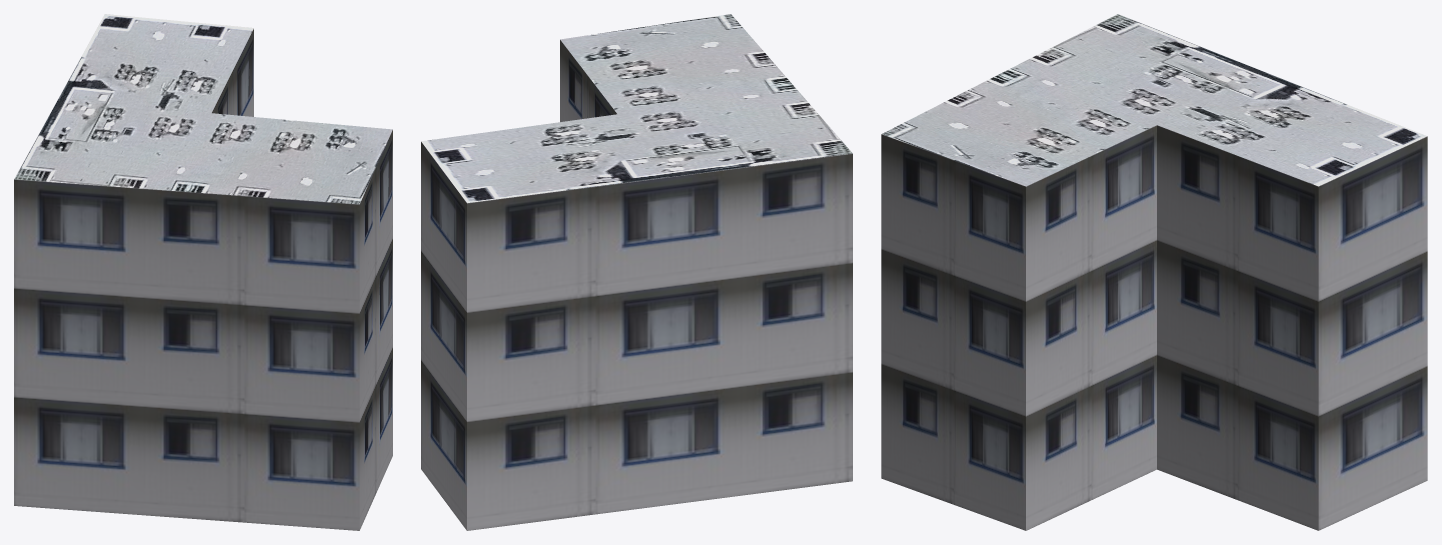
Rendered from ResTex__2522.fbx.
3 renders of one model, left to right at view 1: azimuth 30°, elevation 25°; view 2: azimuth 150°, elevation 25°; view 3: azimuth 270°, elevation 25°, orthographic. The views are drawn at different scales.
Parts seen in each view (by area): view 1: CityEngineMaterial_9_m, CityEngineMaterial_8_m; view 2: CityEngineMaterial_9_m, CityEngineMaterial_8_m; view 3: CityEngineMaterial_9_m, CityEngineMaterial_8_m.
Boxes of the visible parts, <box> form: CityEngineMaterial_9_m: <box>14,29,392,530</box>; CityEngineMaterial_8_m: <box>14,14,392,204</box>; CityEngineMaterial_9_m: <box>421,40,852,530</box>; CityEngineMaterial_8_m: <box>421,14,852,203</box>; CityEngineMaterial_9_m: <box>881,125,1427,530</box>; CityEngineMaterial_8_m: <box>881,14,1426,186</box>.
Bounding box in the file's own units: 9.67 × 9 × 12.94.
2 materials, 2 textured.
